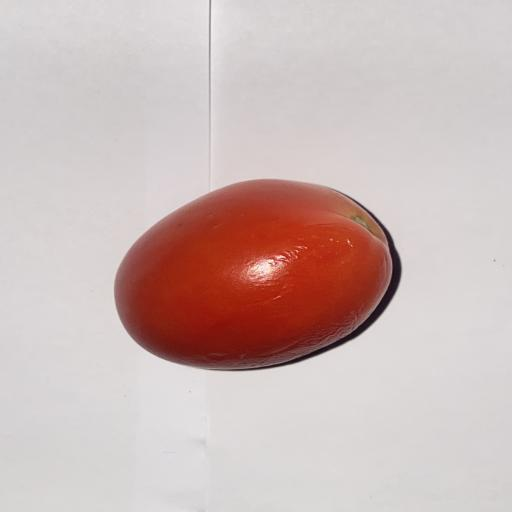spoiled: (115, 179, 392, 369)
